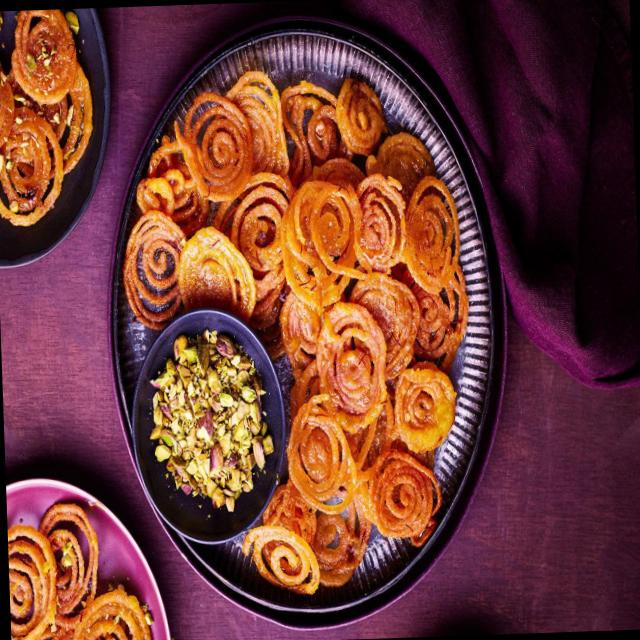jalebi: (224, 84, 467, 598), (0, 14, 97, 225), (7, 513, 137, 640)
